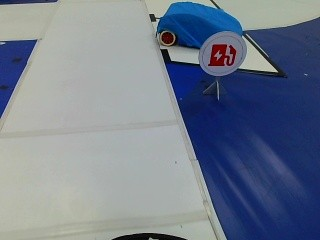battery: (203, 36, 248, 73)
car: (155, 1, 241, 48)
